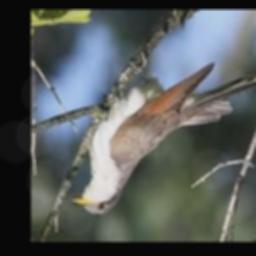Cuckoo: (69, 65, 256, 214)
